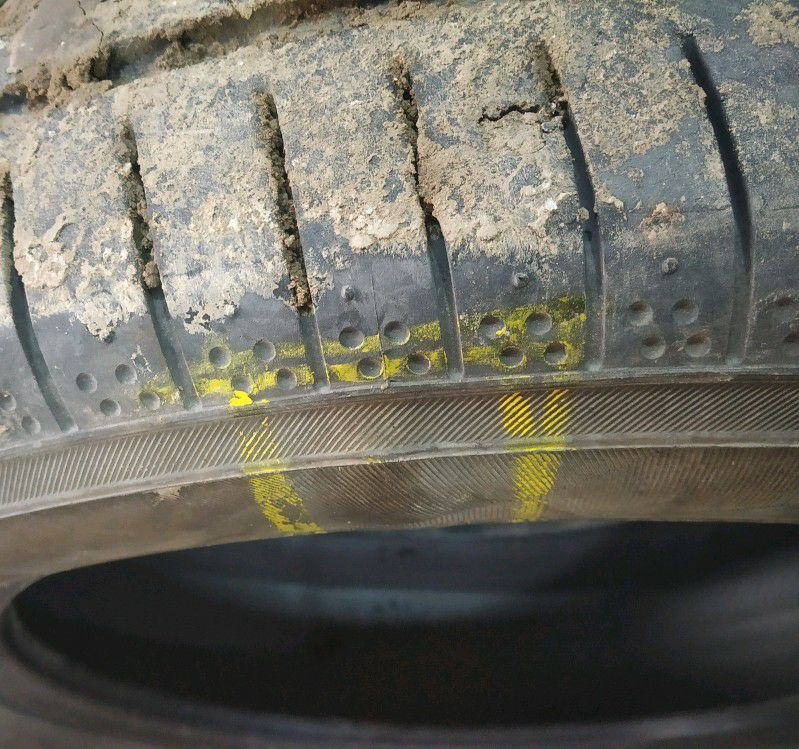CBU: (320, 416, 478, 529)
